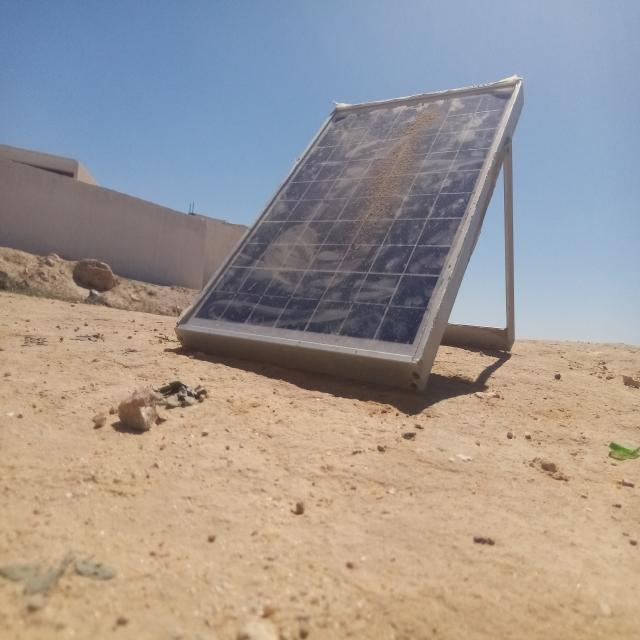faulty: (174, 79, 521, 365)
